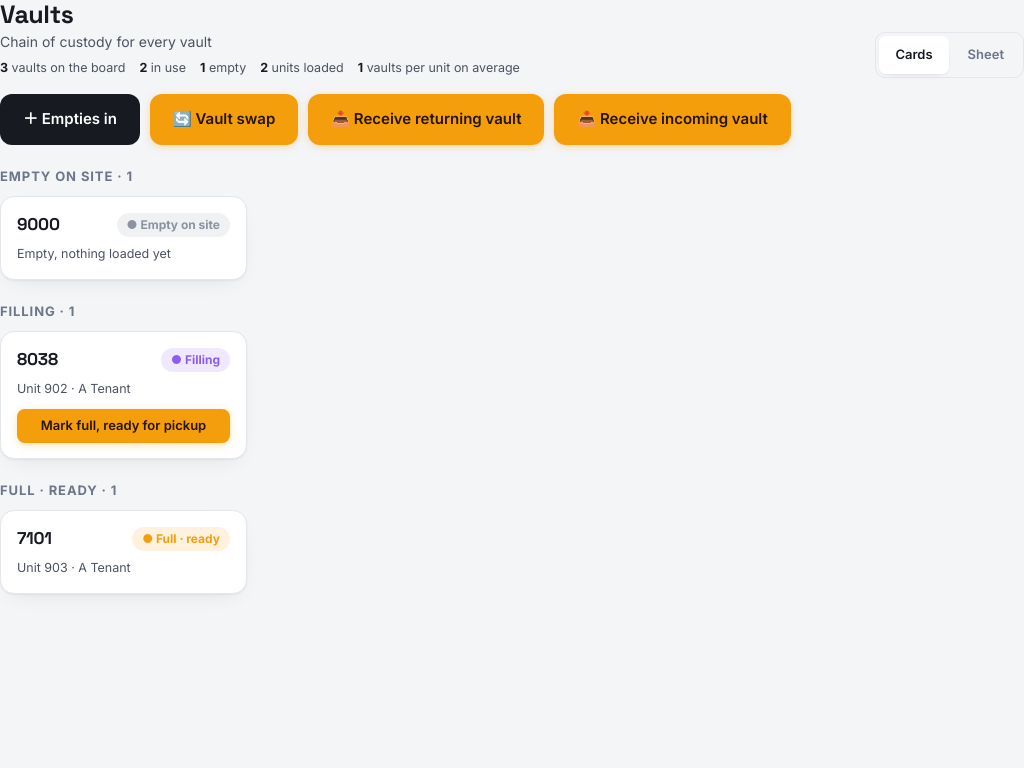
Test: the vault sheet › builds the printable manifest without throwing
What coordinates should you click on to do the following:
click the button "Sheet"
I would click on:
 (986, 55)
Its box is [952,36,1020,74].
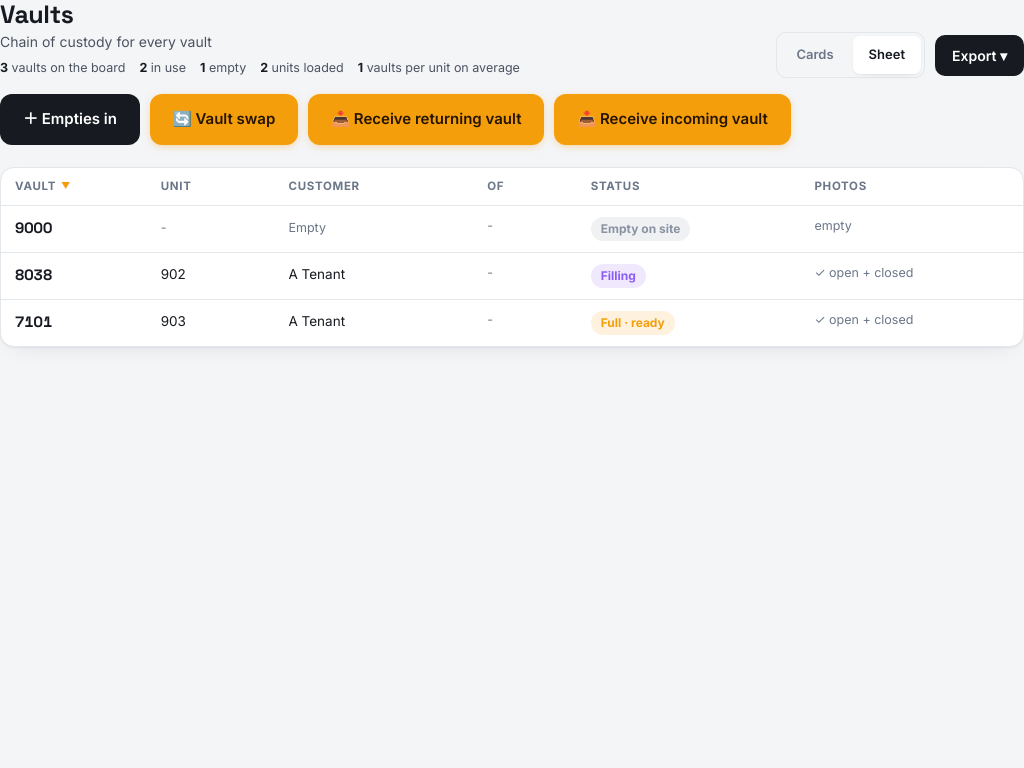
What coordinates should you click on to do the following:
click the button "Export ▾"
I would click on:
 (980, 55)
Its box is [935,34,1023,76].
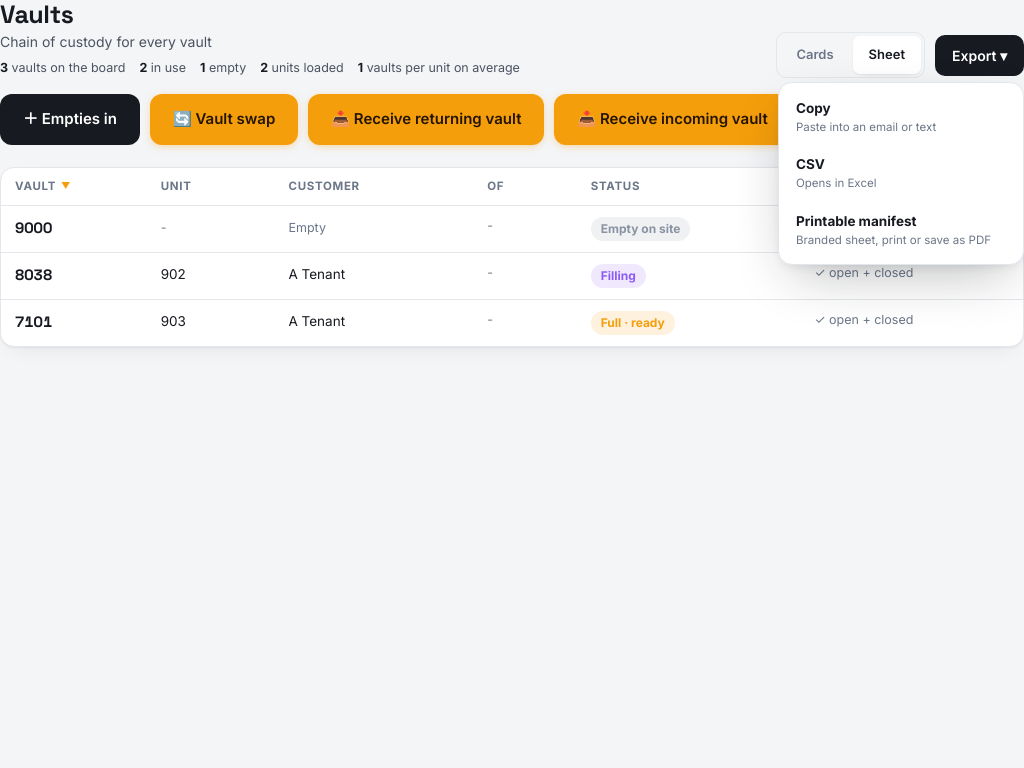
What coordinates should you click on to do the following:
click the menu item "Printable manifest Branded sheet, print or save as PDF"
I would click on:
 (901, 230)
Its box is [785,202,1017,258].
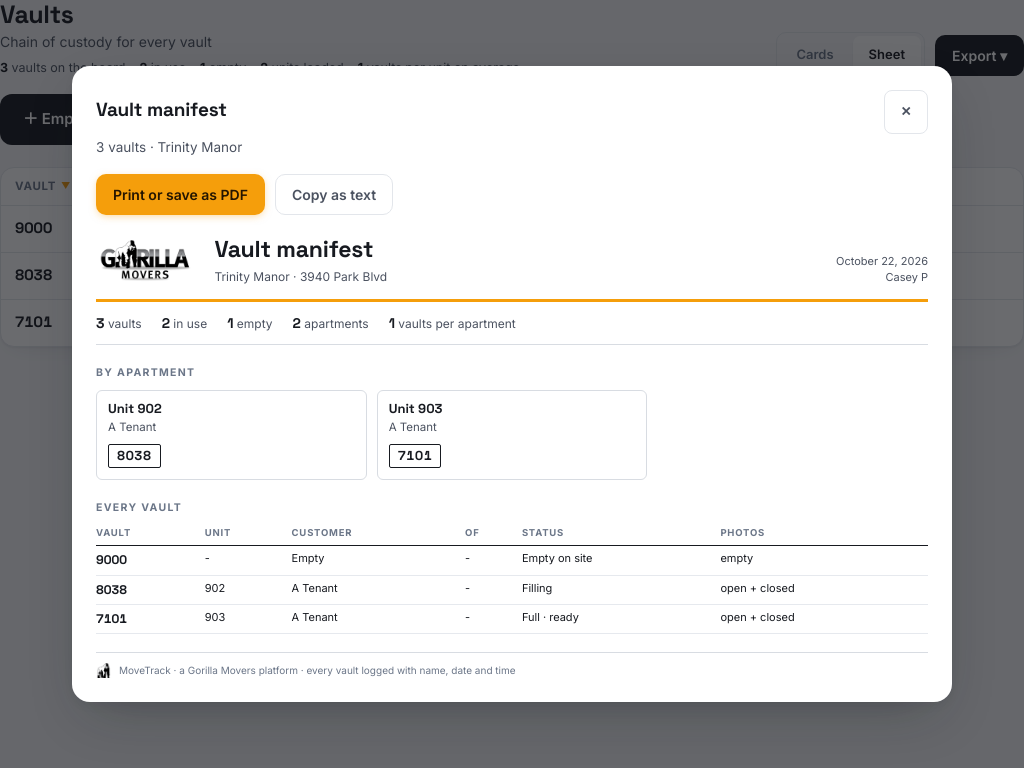
Expected: the heading "Vault manifest" next to "October 22, 2026" is shown, [214,234,373,264]
